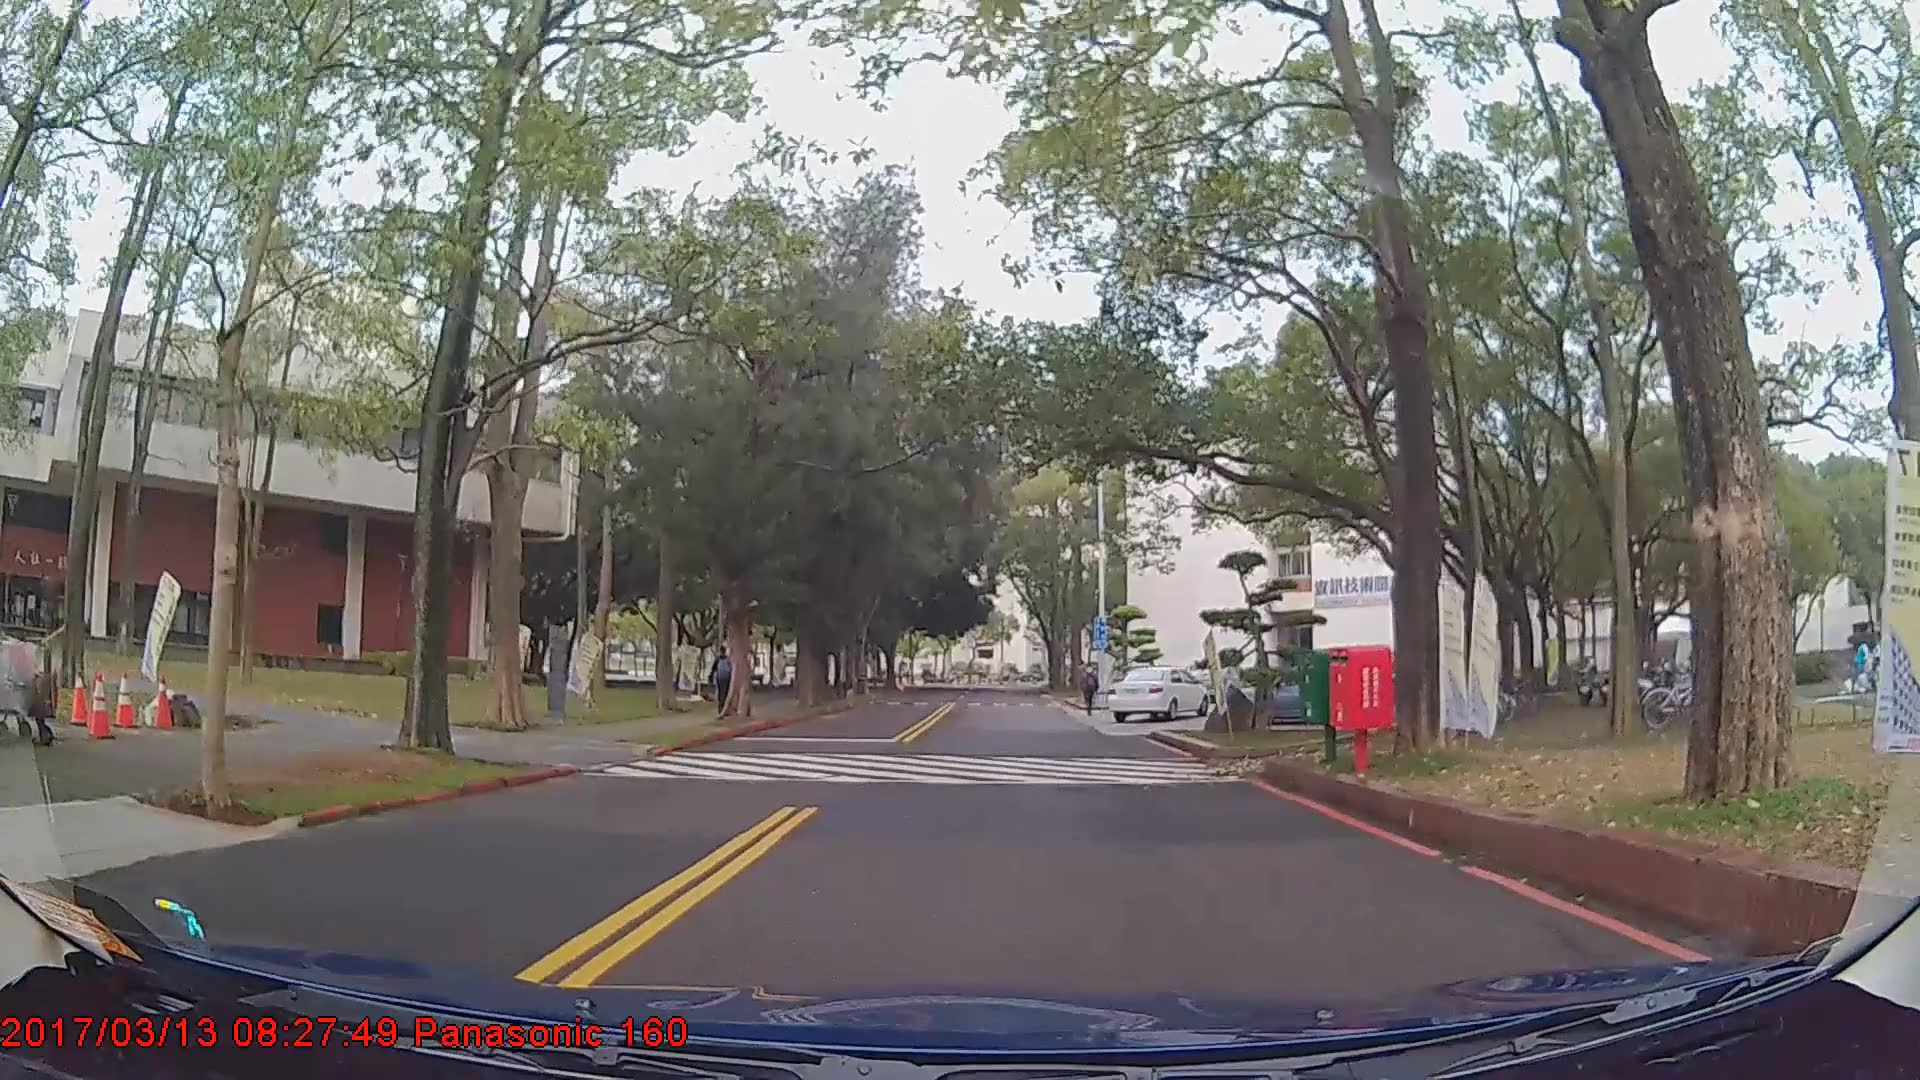pedestrian: (710, 651, 740, 721), (1079, 669, 1101, 724)
vehicle: (1108, 664, 1211, 723)
